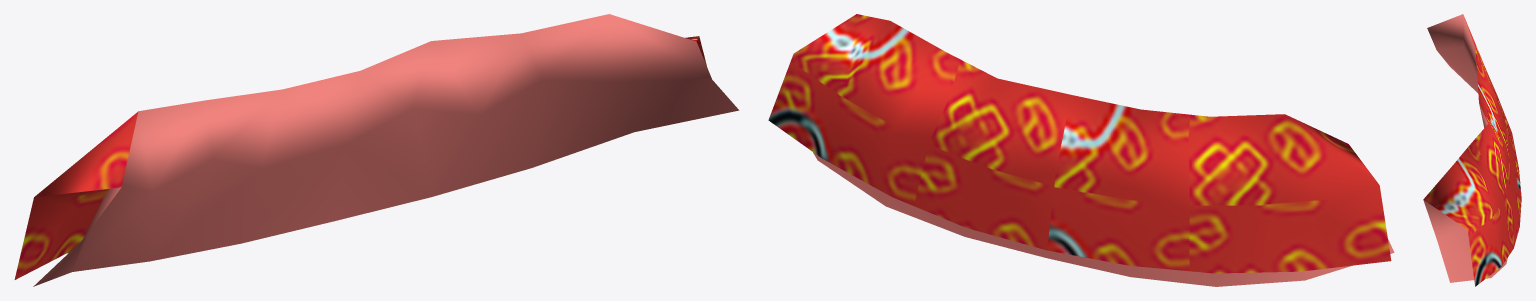
Rendered from Kerah.fbx.
3 renders of one model, left to right at view 1: azimuth 30°, elevation 25°; view 2: azimuth 150°, elevation 25°; view 3: azimuth 270°, elevation 25°, orthographic. The views are drawn at different scales.
Parts seen in each view (by area): view 1: Kerah.001; view 2: Kerah.001; view 3: Kerah.001.
Boxes of the visible parts, x1,y1,x2,y2 form: Kerah.001: [14, 14, 739, 286]; Kerah.001: [768, 14, 1394, 286]; Kerah.001: [1423, 14, 1521, 286].
Bounding box in the file's own units: 145 × 37.89 × 27.24.
Materials: 2 (1 with a texture image).
